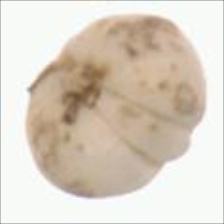L5: (96, 87, 193, 170), (24, 42, 111, 130)
L6: (24, 13, 210, 199)
